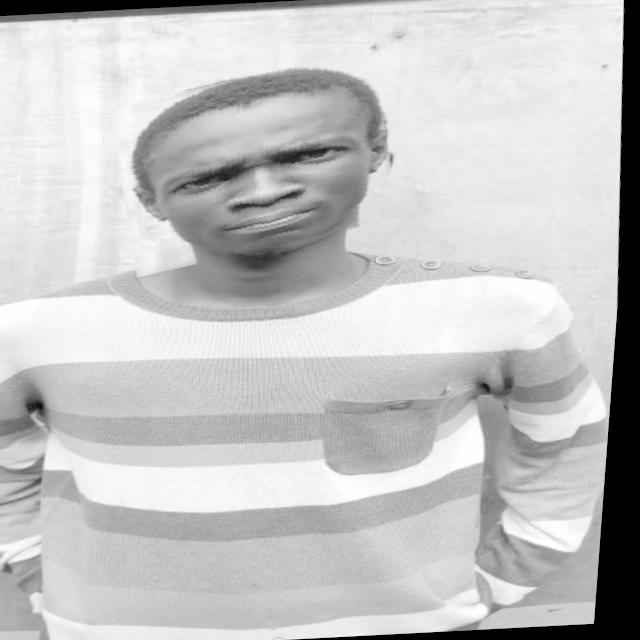sad: (106, 59, 407, 268)
